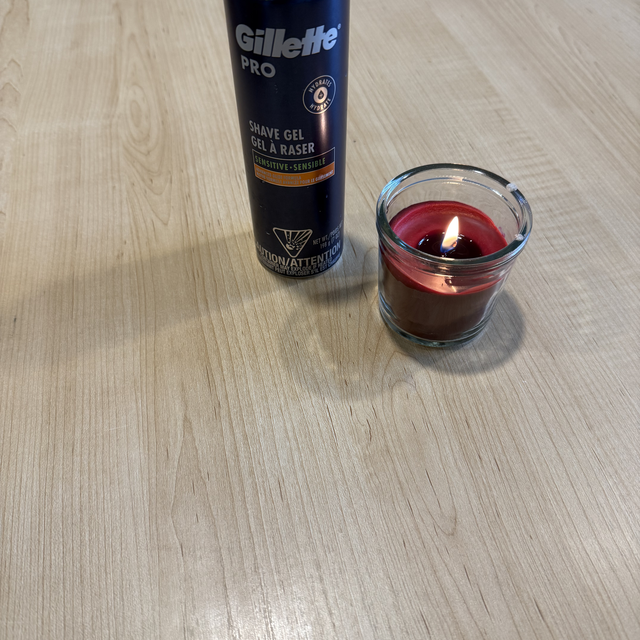Aerosol: (221, 0, 347, 280)
Candle: (372, 163, 536, 352)
